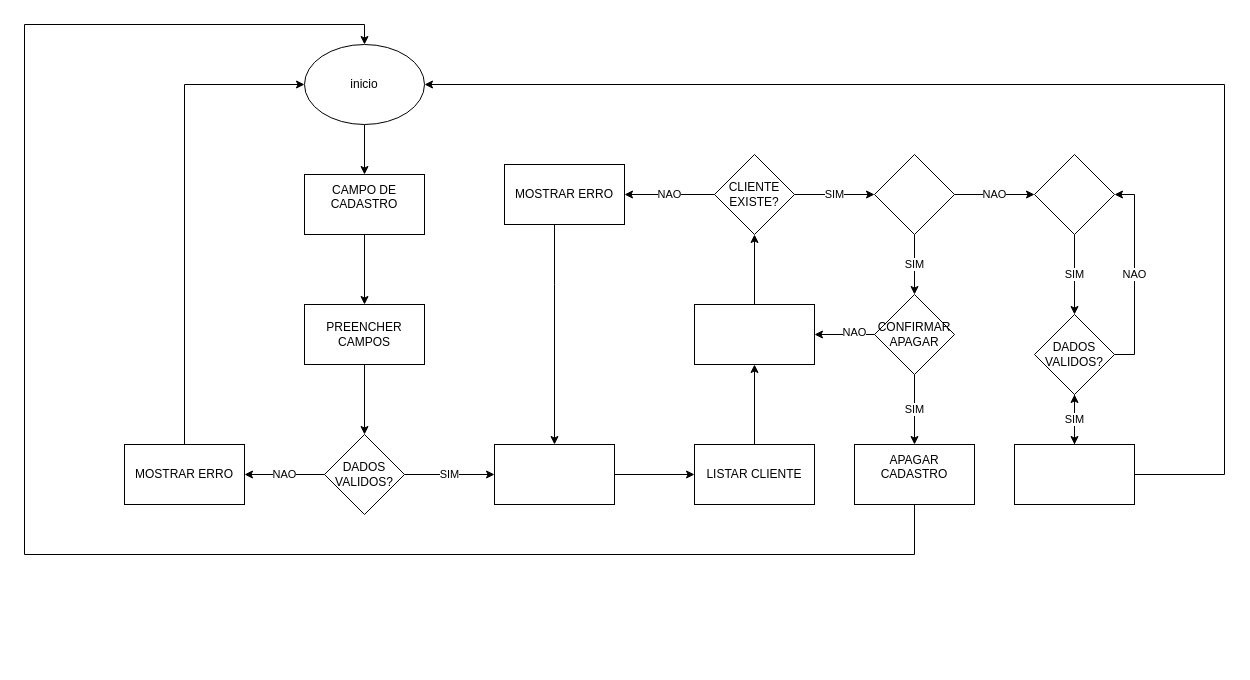
The diagram is 1250 pixels wide and 680 high, and some of its shapes have lost their labels. The centre of each missing label's shape, as x and y in pixels:
APAGAR?: the point at 914,194
ATUALIZAR: the point at 1074,194
ATUALIZAR CLIENTE: the point at 1074,474
BUSCAR CLIENTE: the point at 754,334
CADASTRAR CLIENTE: the point at 554,474
